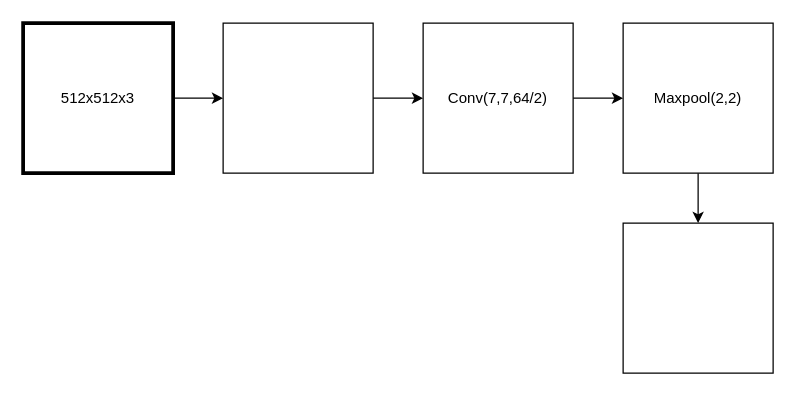
This 795x395 diagram has some shape labels left out. The shapes that lost their labels are listed below. From the top down, each one's centre as x and y in pixels, then its label:
At pixel 297 97: "Zero_padding(3x3)".
At pixel 697 297: "ConvBlock(64,256)".
